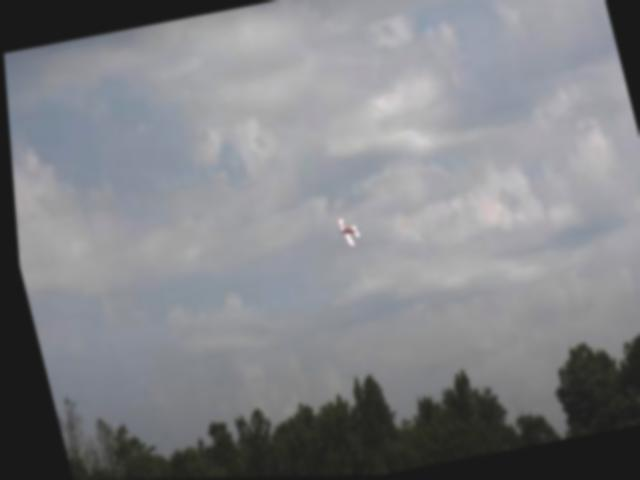uav: (328, 208, 363, 254)
